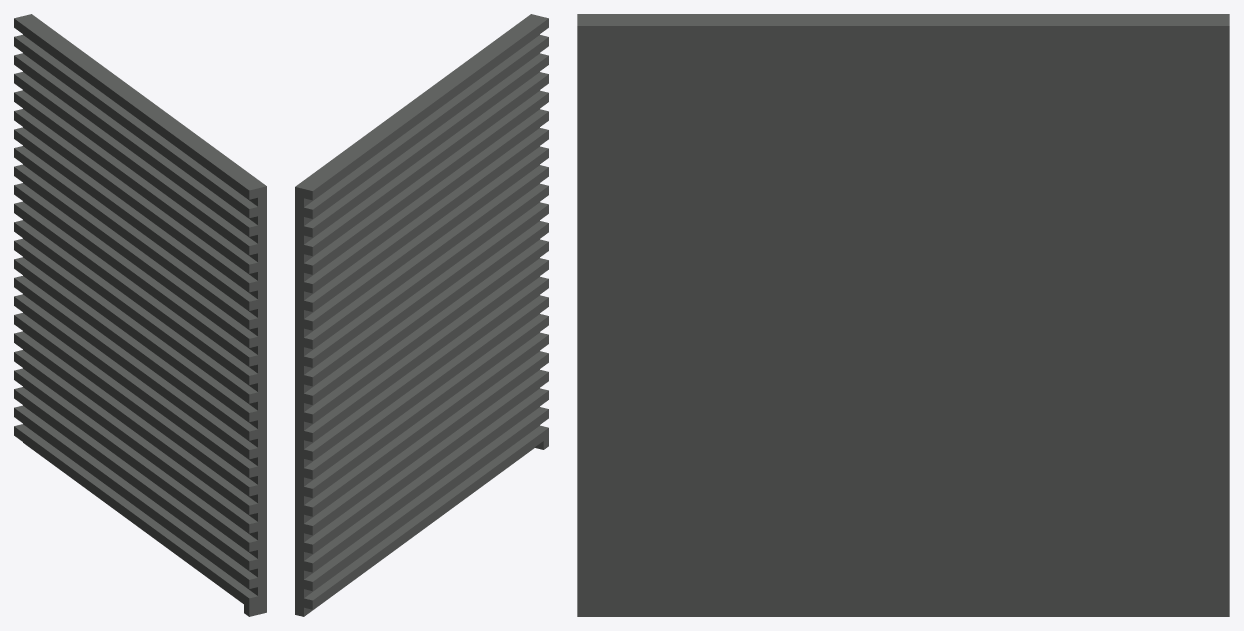
File: truckdoor.obj
The picture shows the model from 3 angles, left to right: view 1: azimuth 30°, elevation 25°; view 2: azimuth 150°, elevation 25°; view 3: azimuth 270°, elevation 25°; orthographic projection. The views are drawn at different scales.
Size of the model in its own units: 0.2 by 4.6 by 4.6.
Materials: 1 (1 with a texture image).
